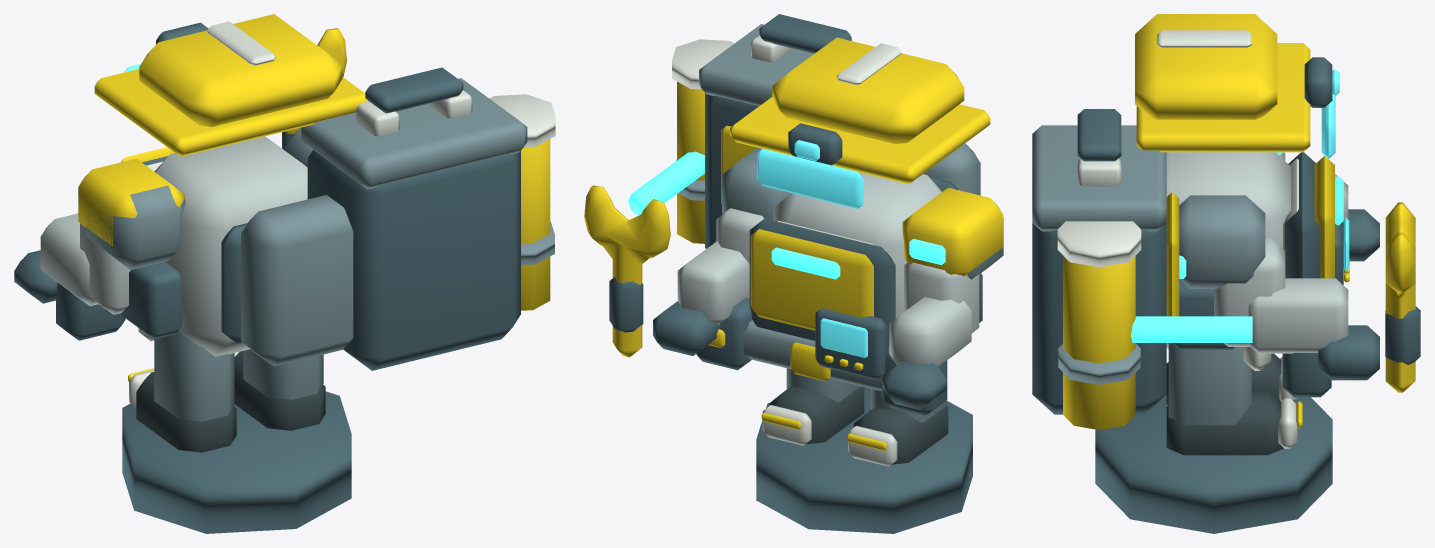
Rendered from engineer.glb.
3 renders of one model, left to right at view 1: azimuth 30°, elevation 25°; view 2: azimuth 150°, elevation 25°; view 3: azimuth 270°, elevation 25°, orthographic. The views are drawn at different scales.
Visible parts, largest first — view 1: Boot platform, Lower leg greave, Engineer hardhat crown, Armored torso, Armored boot, Knee armor, Arm.L forearm, Arm.L upper, Arm.R forearm; view 2: Engineer hardhat crown, Boot platform, Arm.R forearm, Lower leg greave, Armored torso, Arm.L forearm, Knee armor, Hardhat work lamp, Armored boot, Faction chest insignia, Arm.L upper, Arm.R upper; view 3: Boot platform, Engineer hardhat crown, Lower leg greave, Arm.R forearm, Knee armor, Armored torso, Armored boot, Faction chest insignia, Arm.R upper, Arm.L forearm, Hardhat work lamp.
Boxes of the visible parts, x1,y1,x2,y2 form: Boot platform: (56, 22, 520, 533); Lower leg greave: (85, 78, 554, 421); Engineer hardhat crown: (78, 14, 550, 381); Armored torso: (154, 136, 307, 356); Armored boot: (136, 351, 325, 452); Knee armor: (129, 21, 555, 407); Arm.L forearm: (14, 213, 98, 305); Arm.L upper: (80, 223, 130, 314); Arm.R forearm: (282, 28, 346, 149); Engineer hardhat crown: (677, 37, 1003, 450); Boot platform: (696, 14, 982, 533); Arm.R forearm: (584, 185, 749, 357); Lower leg greave: (676, 24, 1003, 422); Armored torso: (773, 172, 942, 318); Arm.L forearm: (882, 297, 971, 409); Knee armor: (672, 35, 901, 466); Hardhat work lamp: (757, 140, 867, 357); Armored boot: (769, 386, 948, 464); Faction chest insignia: (628, 151, 945, 279); Arm.L upper: (904, 262, 979, 333); Arm.R upper: (716, 208, 763, 263); Boot platform: (1032, 57, 1343, 533); Engineer hardhat crown: (1063, 14, 1349, 430); Lower leg greave: (1032, 125, 1265, 425); Arm.R forearm: (1247, 202, 1420, 392); Knee armor: (1057, 30, 1298, 448); Armored torso: (1166, 152, 1290, 349); Armored boot: (1166, 353, 1283, 455); Faction chest insignia: (1131, 152, 1343, 342); Arm.R upper: (1214, 237, 1285, 346); Arm.L forearm: (1335, 174, 1379, 261); Hardhat work lamp: (1321, 69, 1349, 270).
Size of the model in its own units: 0.7375 by 0.7837 by 0.6144.
